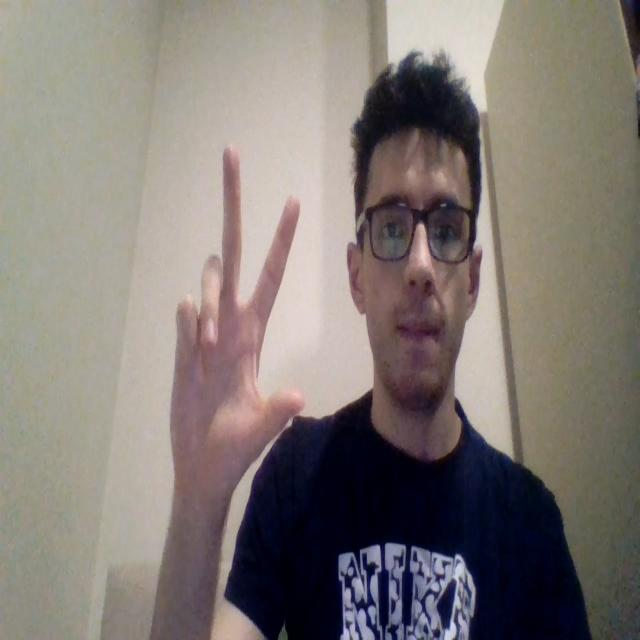no: (169, 143, 305, 508)
